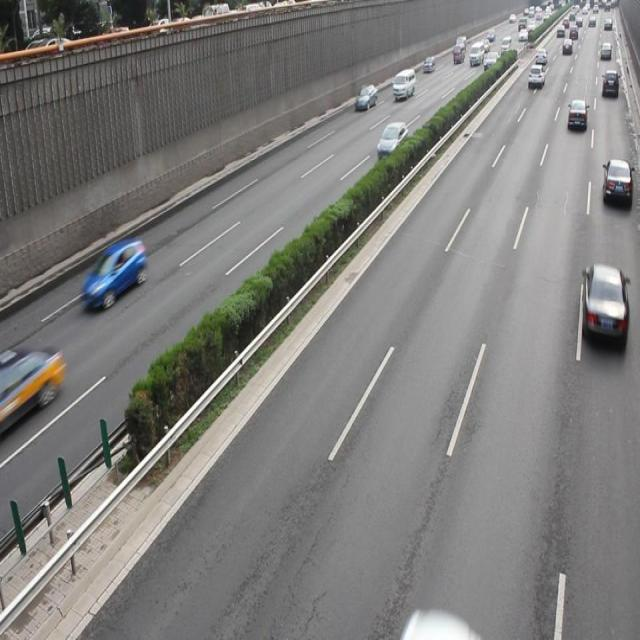car: (1, 344, 64, 424), (81, 238, 146, 308), (581, 262, 627, 344), (601, 157, 631, 207), (375, 120, 407, 160), (565, 98, 586, 132)
